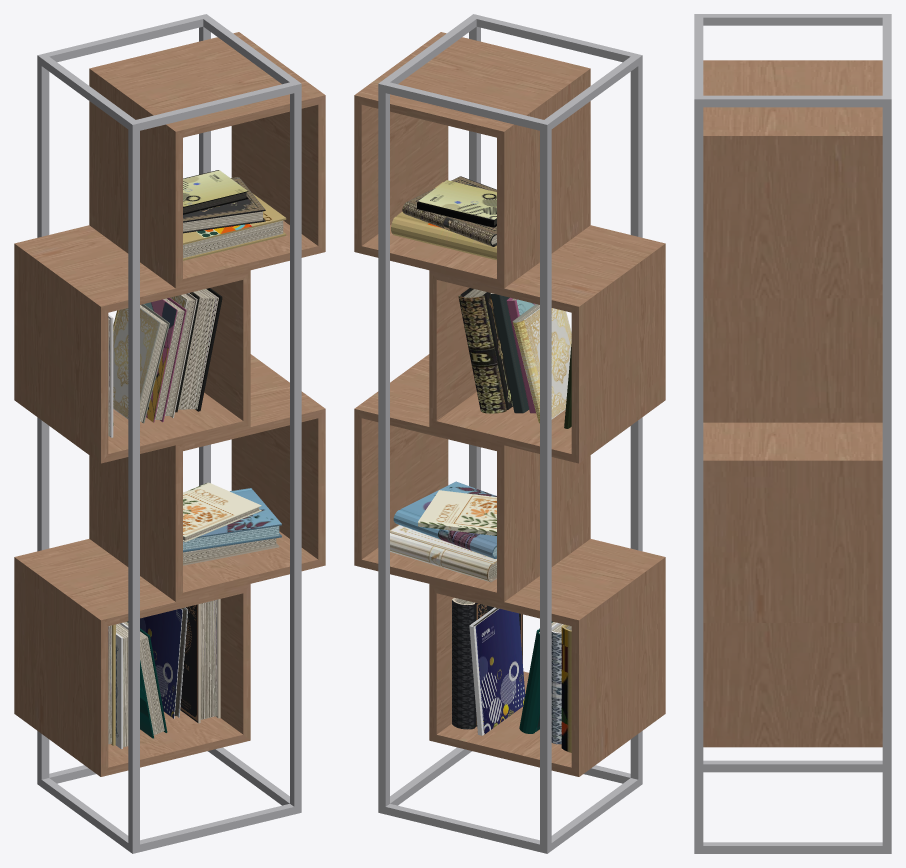
The model's file is bookcase_tall.glb.
3 views of the same model, side by side, from view 1: azimuth 30°, elevation 25°; view 2: azimuth 150°, elevation 25°; view 3: azimuth 270°, elevation 25° (orthographic). The views are drawn at different scales.
Parts seen in each view (by area): view 1: Shelf_1_Shelf_0, Shelf_frame_Shelf_frame_0, Book_1_Book_1_paper_0, Book_10_Book_10_0, Book_6_Book_6_0, Book_4_Book_4_0, Book_7_Book_7_0, Book_9_Book_9_0, Book_15_Book_15_0, Book_16_Book_16_0, Book_14_Book_14_0, Book_2_Book_2_0 (+5 smaller); view 2: Shelf_1_Shelf_0, Shelf_frame_Shelf_frame_0, Book_6_Book_6_0, Book_1_Book_1_0, Book_10_Book_10_0, Book_7_Book_7_0, Book_3_Book_3_0, Book_4_Book_4_0, Book_9_Book_9_0, Book_16_Book_16_0, Book_14_Book_14_0, Book_5_Book_5_0 (+5 smaller); view 3: Shelf_1_Shelf_0, Shelf_frame_Shelf_frame_0.
Boxes of the visible parts, left/top/right/bottom form: Shelf_1_Shelf_0: left=14, top=32, right=325, bottom=776; Shelf_frame_Shelf_frame_0: left=37, top=14, right=301, bottom=853; Book_1_Book_1_paper_0: left=108, top=211, right=283, bottom=747; Book_10_Book_10_0: left=113, top=304, right=169, bottom=423; Book_6_Book_6_0: left=140, top=607, right=187, bottom=718; Book_4_Book_4_0: left=183, top=482, right=261, bottom=542; Book_7_Book_7_0: left=180, top=599, right=220, bottom=723; Book_9_Book_9_0: left=183, top=170, right=248, bottom=214; Book_15_Book_15_0: left=144, top=297, right=186, bottom=422; Book_16_Book_16_0: left=183, top=488, right=281, bottom=552; Book_14_Book_14_0: left=183, top=193, right=286, bottom=260; Book_2_Book_2_0: left=183, top=177, right=265, bottom=233; Shelf_1_Shelf_0: left=354, top=32, right=665, bottom=776; Shelf_frame_Shelf_frame_0: left=378, top=14, right=642, bottom=853; Book_6_Book_6_0: left=469, top=607, right=525, bottom=735; Book_1_Book_1_0: left=458, top=288, right=512, bottom=413; Book_10_Book_10_0: left=512, top=304, right=571, bottom=423; Book_7_Book_7_0: left=452, top=598, right=522, bottom=729; Book_3_Book_3_0: left=390, top=525, right=496, bottom=582; Book_4_Book_4_0: left=418, top=490, right=496, bottom=535; Book_9_Book_9_0: left=417, top=180, right=496, bottom=227; Book_16_Book_16_0: left=393, top=481, right=496, bottom=558; Book_14_Book_14_0: left=391, top=182, right=496, bottom=260; Book_5_Book_5_0: left=490, top=293, right=529, bottom=413; Shelf_1_Shelf_0: left=703, top=60, right=882, bottom=747; Shelf_frame_Shelf_frame_0: left=694, top=14, right=891, bottom=853.
Bounding box in the file's own units: 0.6001 × 1.86 × 0.4405.
Materials: 22 (22 with a texture image).
